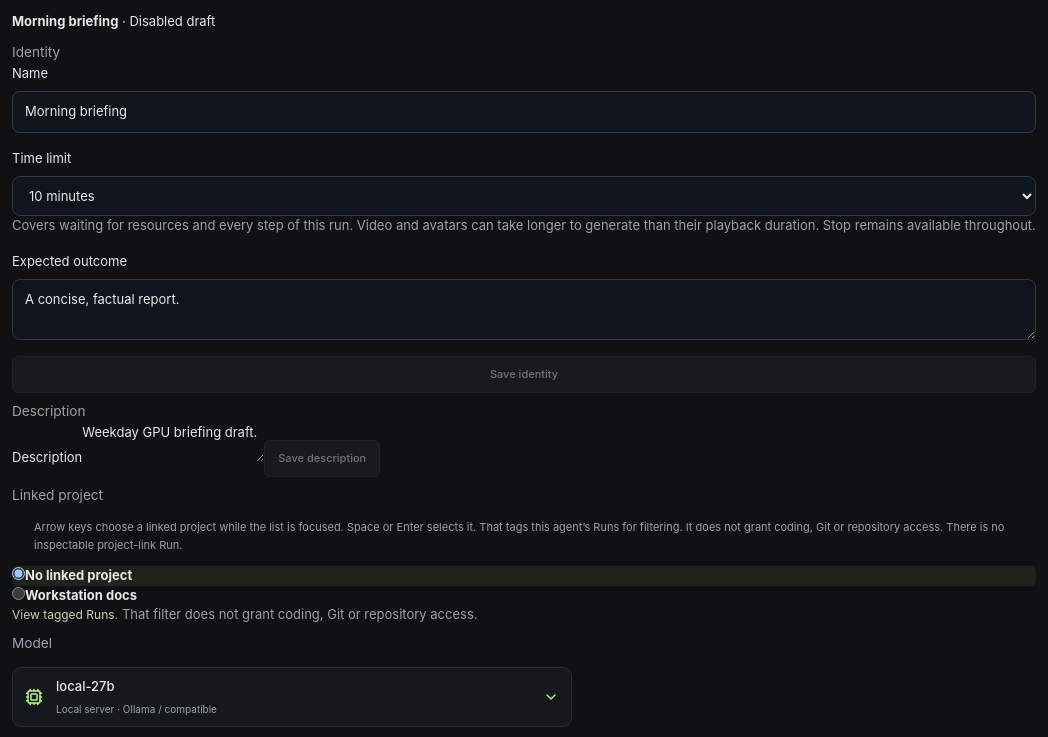
saves identity from the conversation without Enable or Run now
The width and height of the screenshot is (1048, 737).
Expected: the dropdown named "Time limit agent-on" shows "10 minutes", [12,176,1036,216]
Expected: the text box named "Expected outcome agent-on" holds "A concise, factual report.", [12,279,1036,340]
Replace the text in the field named "Name agent-on" with "Idle GPU brief" at (524, 112), box [12,91,1036,133]
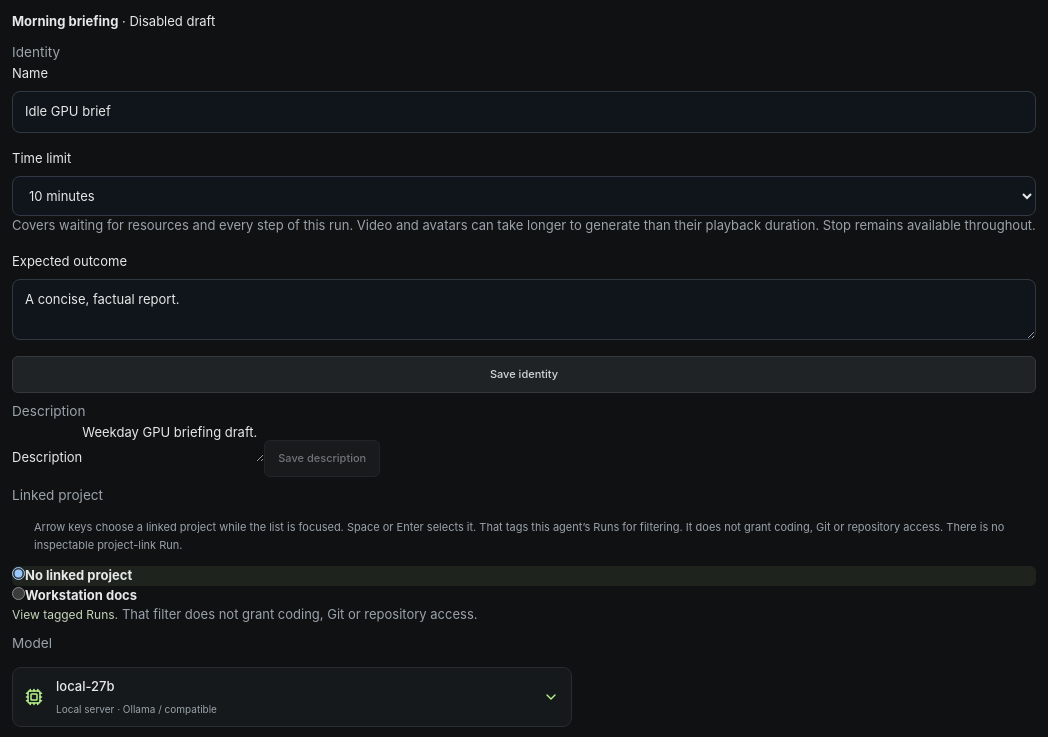
Select "Custom duration…" in the dropdown named "Time limit agent-on" at (524, 196), box [12,176,1036,216]
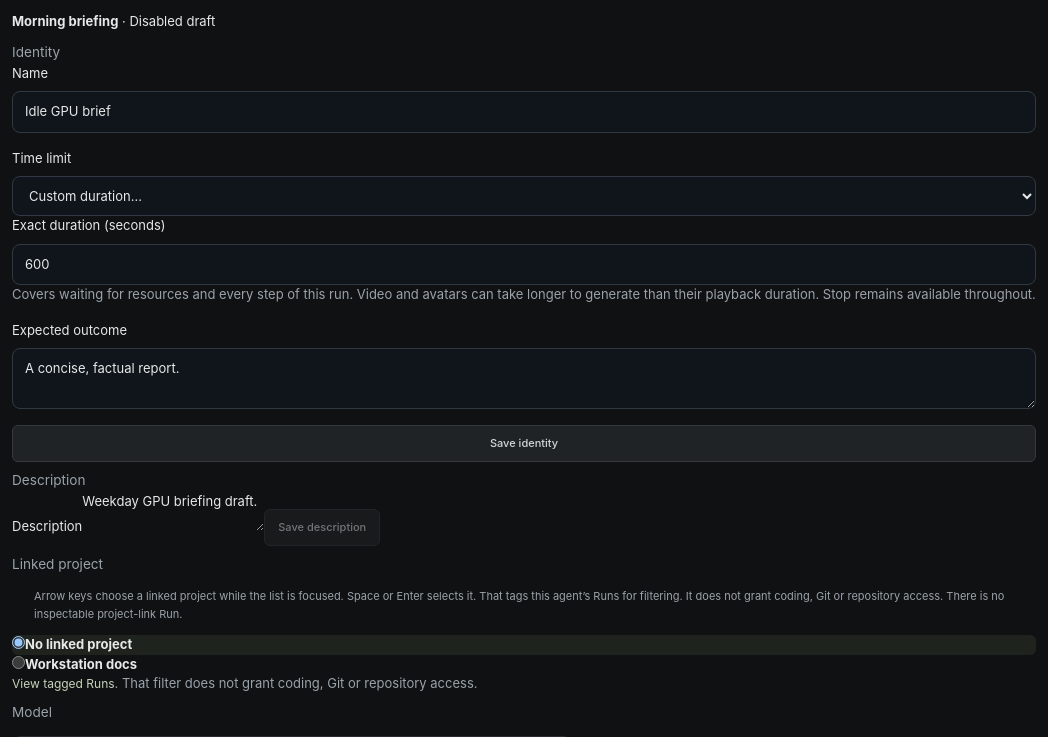
Replace the text in the number field named "Time limit agent-on seconds" with "900" at (524, 265), box [12,244,1036,285]
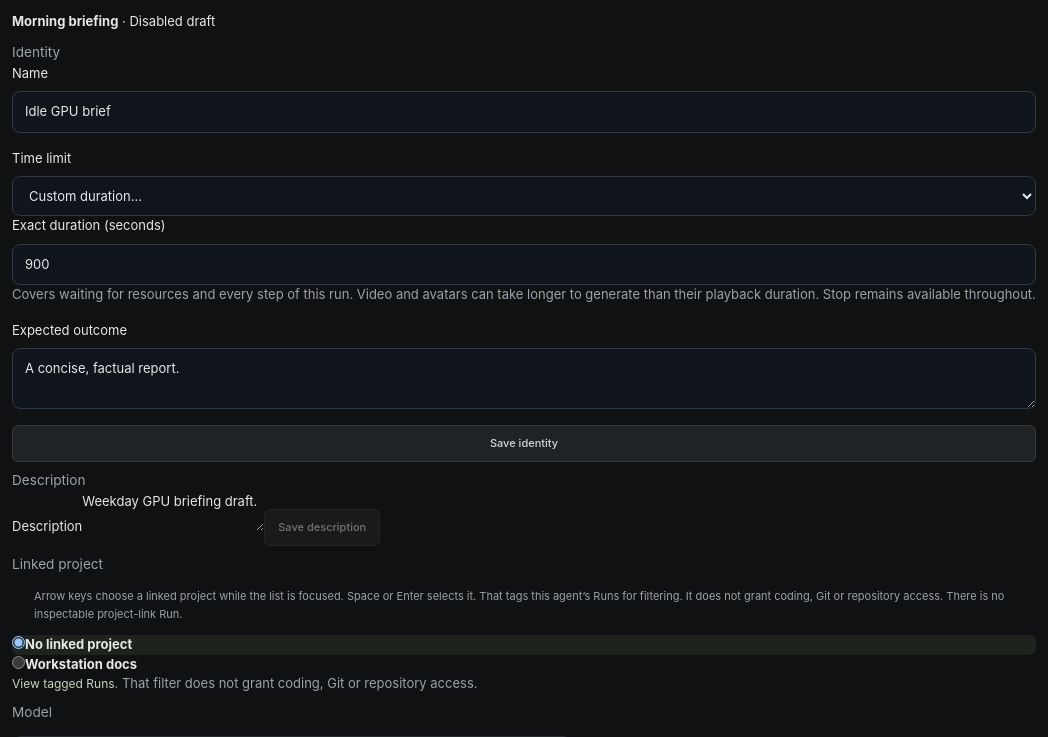
Replace the text in the text box named "Expected outcome agent-on" with "List idle GPUs in one paragraph." at (524, 379), box [12,348,1036,409]
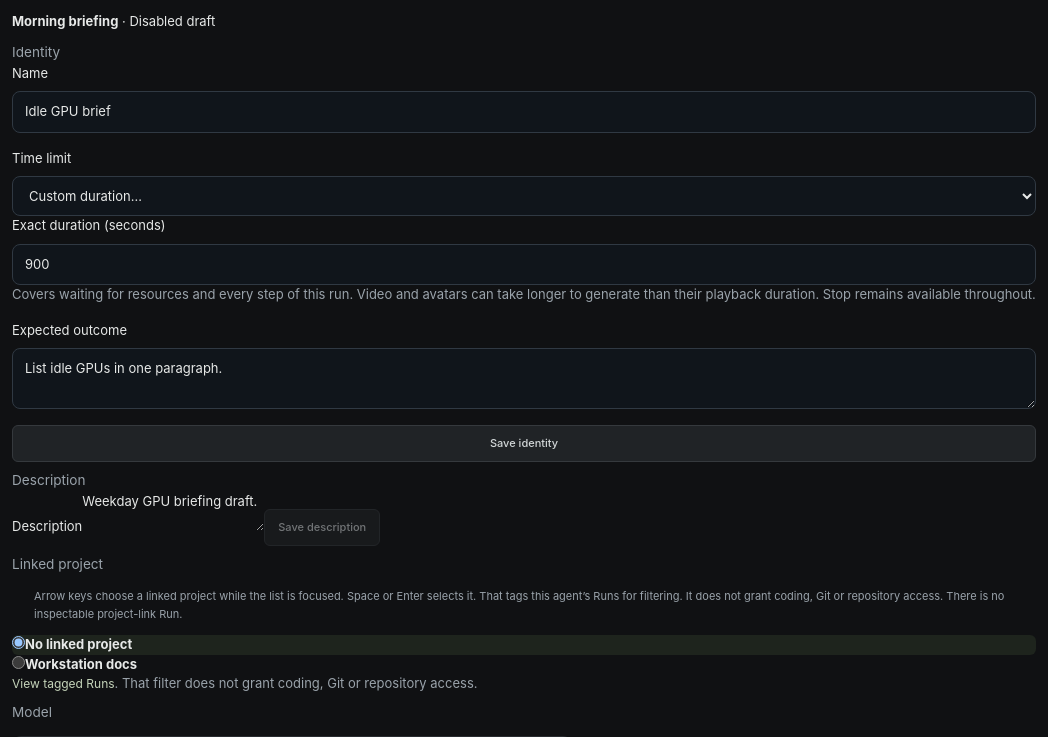
Click the button with aria-label "Save identity agent-on" at (524, 444), box [12,425,1036,462]
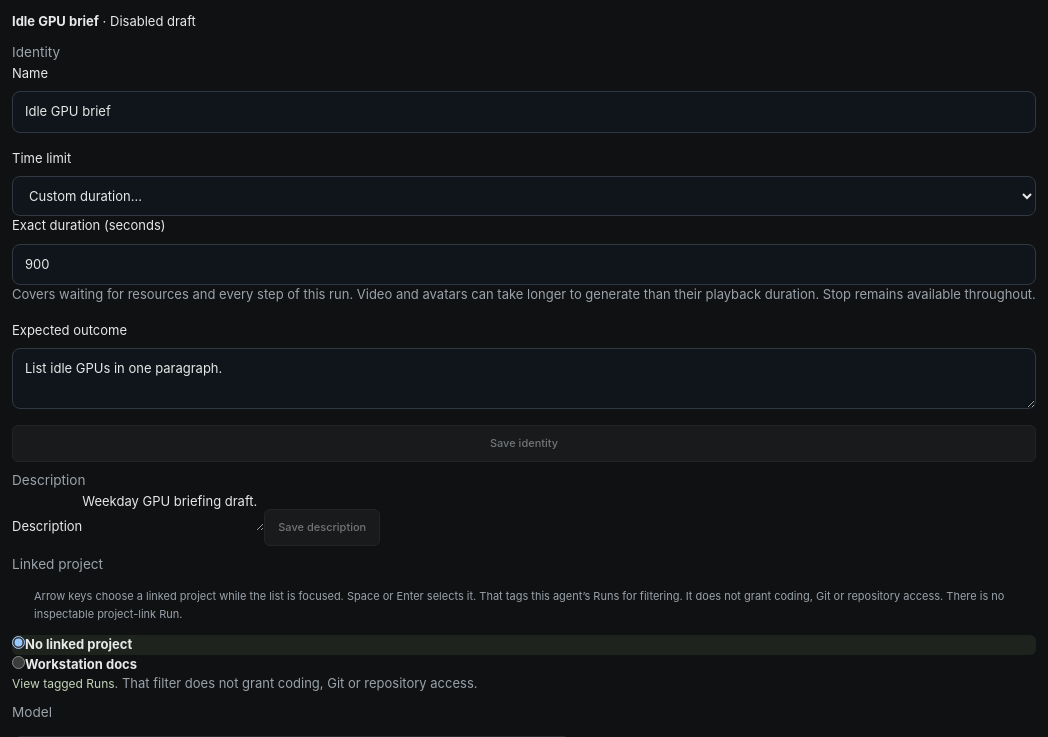
Result: the text "Idle GPU brief" is shown at [12,13,99,29]
